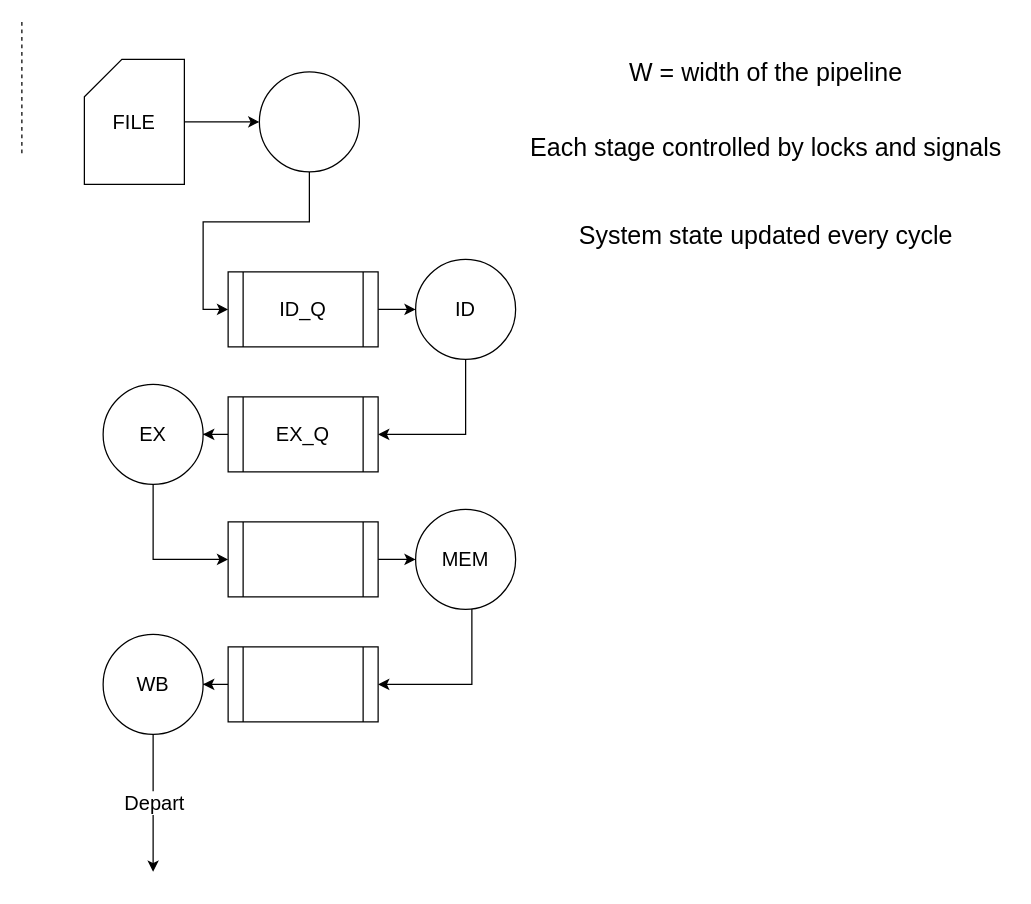
This 1031x904 diagram has some shape labels left out. The shapes that lost their labels are listed below. From the top down, each one's box as (x1, y1, x2, y2) in pixels, then its label:
(258, 71, 359, 172): IF
(227, 521, 378, 597): MEM_Q
(227, 646, 378, 722): WB_Q
